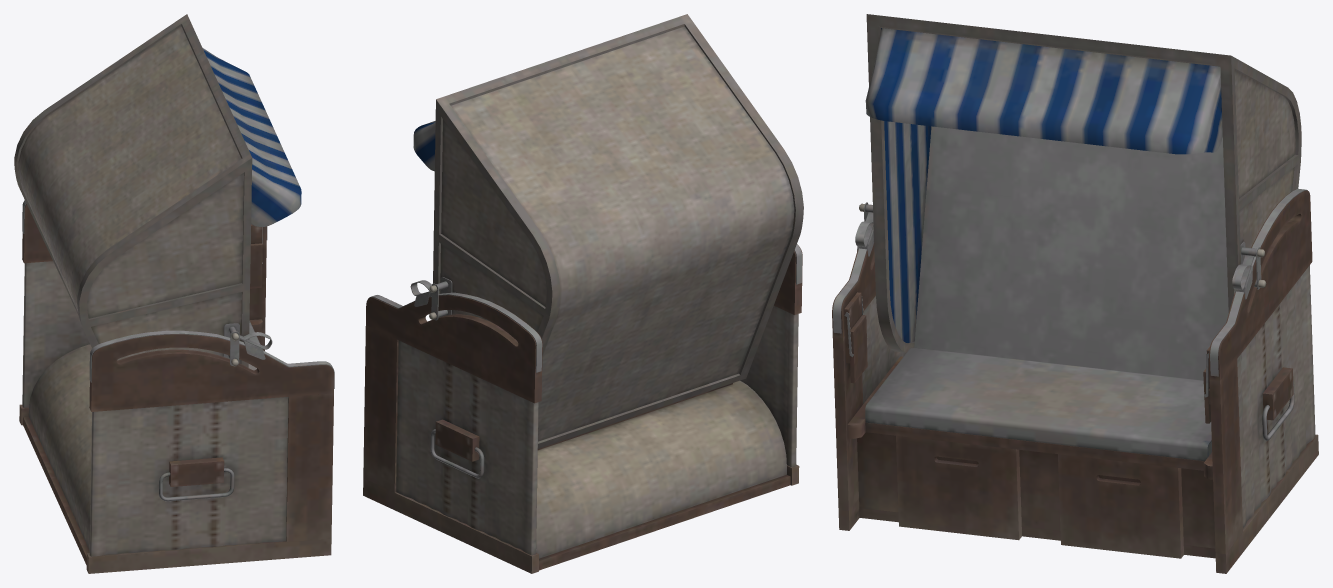
The model's file is ItemSpot.fbx.
3 renders of one model, left to right at view 1: azimuth 30°, elevation 25°; view 2: azimuth 150°, elevation 25°; view 3: azimuth 270°, elevation 25°, orthographic. The views are drawn at different scales.
Parts seen in each view (by area): view 1: ItemBox_BeachChair; view 2: ItemBox_BeachChair; view 3: ItemBox_BeachChair.
Boxes of the visible parts, x1=… form: ItemBox_BeachChair: x1=14, y1=14, x2=334, y2=573; ItemBox_BeachChair: x1=363, y1=14, x2=803, y2=573; ItemBox_BeachChair: x1=832, y1=14, x2=1318, y2=573.
Bounding box in the file's own units: 1.78 × 2.3 × 2.08.
1 material, 1 textured.
